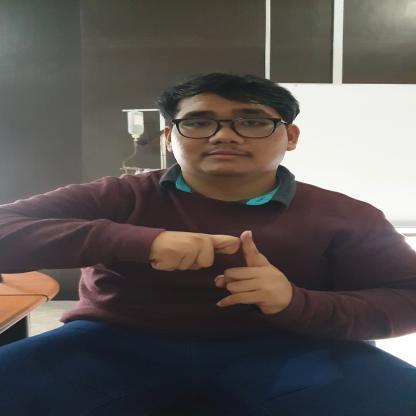K: (140, 228, 296, 317)
